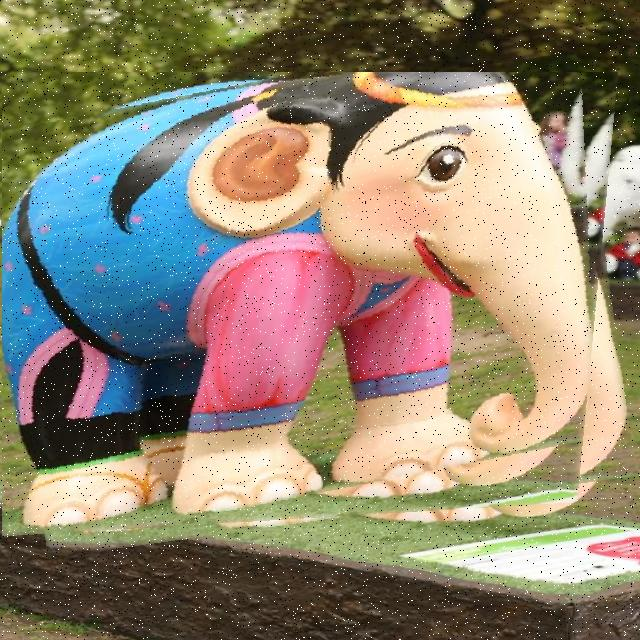elephant: (2, 72, 622, 539)
